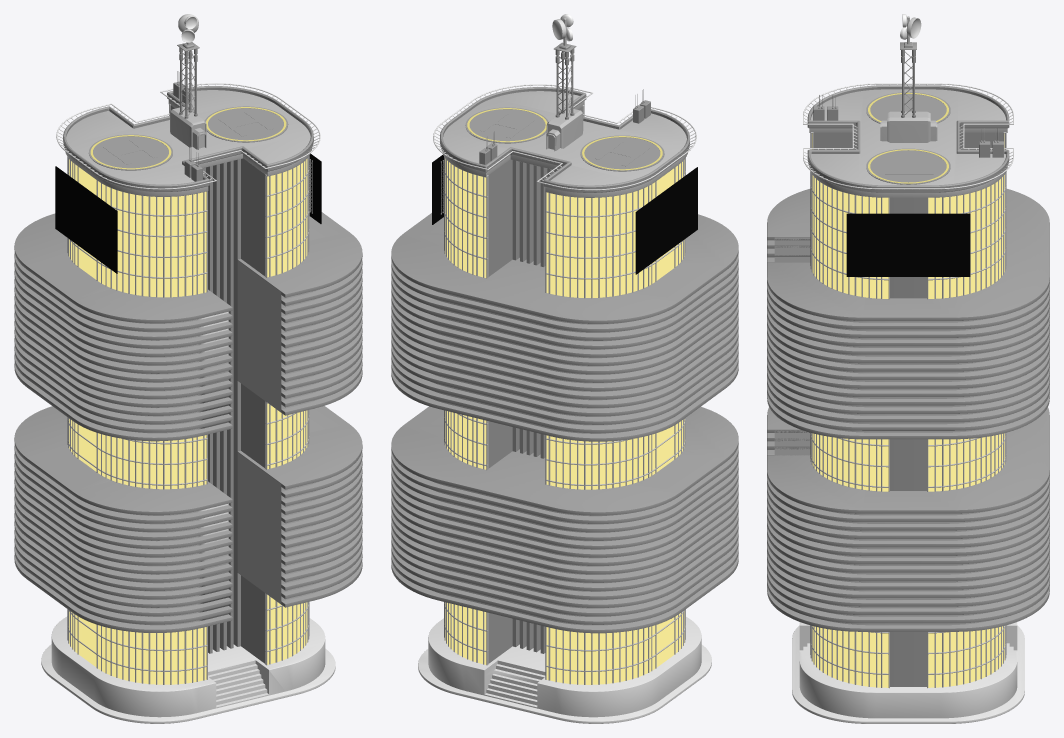
3 renders of one model, left to right at view 1: azimuth 30°, elevation 25°; view 2: azimuth 150°, elevation 25°; view 3: azimuth 270°, elevation 25°, orthographic.
Visible parts, largest first — view 1: Windows_2_Windows_0, MainBody_2_2_Antenna_03_0, Windows_Base_01_0 (×2), Part_01_Element_4_15_Base_03_0, Part_01_Element_4_30_Base_03_0, Boole_2_Base_02_0, MainBodyTop_Antenna_02_0, Part_01_Body_2_Base_01_0, Part_01_Body_2_2_Base_01_0, Cube_2_7_Poster_02_0, EdgeTop_3_Base_03_0, MainBodyBase_2_Base_02_0 (+33 smaller); view 2: Windows_2_Windows_0, Part_01_Element_4_15_Base_03_0, Windows_Base_01_0 (×2), Part_01_Element_4_30_Base_03_0, Boole_2_Base_02_0, MainBody_2_2_Antenna_03_0, MainBodyTop_Antenna_02_0, Part_01_Body_2_2_Base_01_0, Part_01_Body_2_Base_01_0, Cube_2_7_Poster_02_0, EdgeTop_3_Base_03_0, Part_01_Element_4_24_Base_03_0 (+33 smaller); view 3: Windows_2_Windows_0, Part_01_Element_4_30_Base_03_0, Windows_Base_01_0 (×2), Part_01_Element_4_15_Base_03_0, MainBodyTop_Antenna_02_0, Boole_2_Base_02_0, Cube_3_7_Poster_02_0, MainBody_2_2_Antenna_03_0, Part_01_Body_2_Base_01_0, Part_01_Body_2_2_Base_01_0, EdgeTop_3_Base_03_0, MainBodyBase_2_Base_02_0 (+32 smaller).
Part boxes in pixels (bbox=[...]): Windows_2_Windows_0: bbox=[69, 159, 307, 684]; MainBody_2_2_Antenna_03_0: bbox=[171, 105, 264, 663]; Windows_Base_01_0 (×2): bbox=[67, 104, 309, 684]; Part_01_Element_4_15_Base_03_0: bbox=[14, 406, 362, 515]; Part_01_Element_4_30_Base_03_0: bbox=[14, 212, 362, 323]; Boole_2_Base_02_0: bbox=[51, 616, 325, 717]; MainBodyTop_Antenna_02_0: bbox=[64, 90, 311, 196]; Part_01_Body_2_Base_01_0: bbox=[120, 452, 322, 625]; Part_01_Body_2_2_Base_01_0: bbox=[120, 260, 322, 433]; Cube_2_7_Poster_02_0: bbox=[55, 166, 117, 273]; EdgeTop_3_Base_03_0: bbox=[63, 86, 313, 191]; MainBodyBase_2_Base_02_0: bbox=[41, 644, 335, 723]; Windows_2_Windows_0: bbox=[445, 159, 684, 684]; Part_01_Element_4_15_Base_03_0: bbox=[391, 406, 738, 515]; Windows_Base_01_0 (×2): bbox=[444, 105, 685, 684]; Part_01_Element_4_30_Base_03_0: bbox=[391, 213, 738, 323]; Boole_2_Base_02_0: bbox=[428, 617, 701, 717]; MainBody_2_2_Antenna_03_0: bbox=[488, 106, 582, 663]; MainBodyTop_Antenna_02_0: bbox=[441, 91, 688, 197]; Part_01_Body_2_2_Base_01_0: bbox=[431, 289, 634, 433]; Part_01_Body_2_Base_01_0: bbox=[431, 481, 634, 625]; Cube_2_7_Poster_02_0: bbox=[635, 167, 697, 274]; EdgeTop_3_Base_03_0: bbox=[440, 87, 689, 192]; Part_01_Element_4_24_Base_03_0: bbox=[391, 295, 738, 374]; Windows_2_Windows_0: bbox=[812, 133, 1004, 687]; Part_01_Element_4_30_Base_03_0: bbox=[767, 189, 1049, 320]; Windows_Base_01_0 (×2): bbox=[810, 132, 1006, 688]; Part_01_Element_4_15_Base_03_0: bbox=[767, 407, 1049, 513]; MainBodyTop_Antenna_02_0: bbox=[809, 89, 1007, 197]; Boole_2_Base_02_0: bbox=[799, 622, 1017, 718]; Cube_3_7_Poster_02_0: bbox=[846, 213, 970, 276]; MainBody_2_2_Antenna_03_0: bbox=[813, 132, 1003, 686]; Part_01_Body_2_Base_01_0: bbox=[774, 430, 994, 625]; Part_01_Body_2_2_Base_01_0: bbox=[774, 237, 994, 432]; EdgeTop_3_Base_03_0: bbox=[807, 85, 1009, 192]; MainBodyBase_2_Base_02_0: bbox=[792, 625, 1024, 723].
Size of the model in its own units: 42 by 94.26 by 37.
